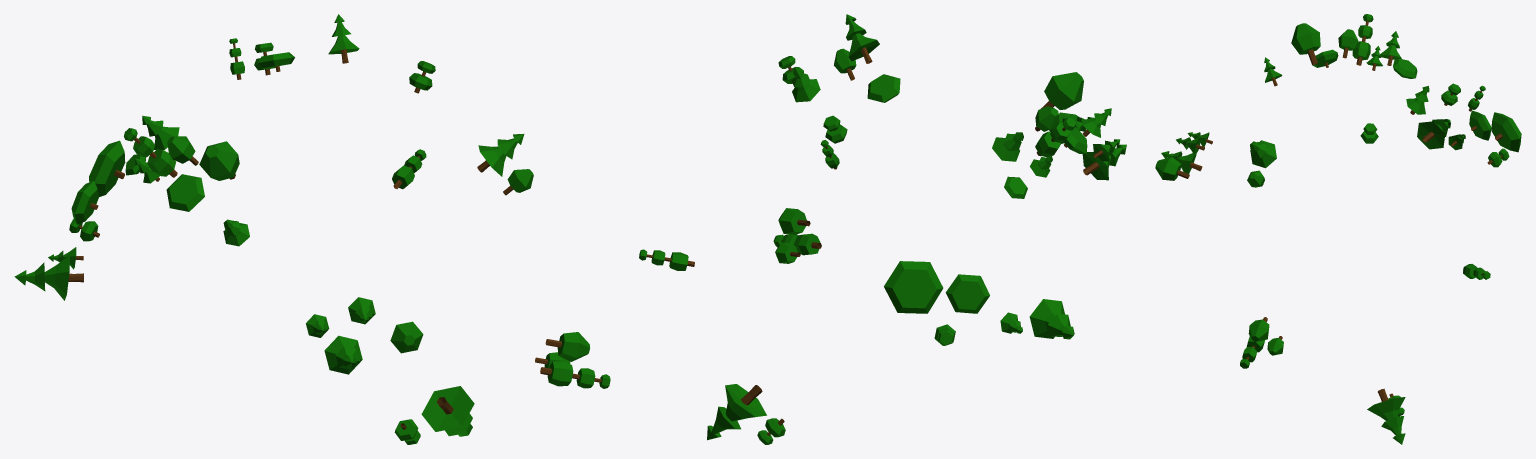
Rendered from planet_trees.glb.
3 renders of one model, left to right at view 1: azimuth 30°, elevation 25°; view 2: azimuth 150°, elevation 25°; view 3: azimuth 270°, elevation 25°, orthographic. The views are drawn at different scales.
Parts seen in each view (by area): view 1: og_tree2.006, og_tree4.001, og_tree2.010, og_tree3.005, og_tree.005, og_tree.004, og_tree4.005, og_tree2.005, og_tree2.002, og_tree3.003, og_tree4.003, og_tree3.004 (+4 smaller); view 2: og_tree4.001, og_tree2.006, og_tree2.010, og_tree4.003, og_tree3.005, og_tree2.002, og_tree.004, og_tree2.005, og_tree4.002, og_tree2.003, og_tree.005, og_tree2.007 (+4 smaller); view 3: og_tree2.006, og_tree4.001, og_tree3.005, og_tree2.010, og_tree.004, og_tree2.002, og_tree3.004, og_tree4.003, og_tree2.005, og_tree.005, og_tree2.003, og_tree3.003 (+3 smaller).
Part boxes in pixels (<box>): og_tree2.006: <box>421,386,474,436</box>; og_tree4.001: <box>89,140,125,196</box>; og_tree2.010: <box>14,255,83,300</box>; og_tree3.005: <box>199,141,239,180</box>; og_tree.005: <box>540,361,610,388</box>; og_tree.004: <box>124,128,177,177</box>; og_tree4.005: <box>166,174,204,211</box>; og_tree2.005: <box>324,335,362,374</box>; og_tree2.002: <box>477,134,524,176</box>; og_tree3.003: <box>545,332,589,361</box>; og_tree4.003: <box>71,181,98,224</box>; og_tree3.004: <box>390,321,423,353</box>; og_tree4.001: <box>884,261,943,313</box>; og_tree2.006: <box>707,384,766,440</box>; og_tree2.010: <box>1029,299,1074,339</box>; og_tree4.003: <box>945,274,989,313</box>; og_tree3.005: <box>1041,72,1083,109</box>; og_tree2.002: <box>845,14,879,63</box>; og_tree.004: <box>1035,117,1075,157</box>; og_tree2.005: <box>1082,144,1126,180</box>; og_tree4.002: <box>867,74,900,102</box>; og_tree2.003: <box>791,67,820,102</box>; og_tree.005: <box>773,233,821,255</box>; og_tree2.007: <box>992,132,1023,161</box>; og_tree2.006: <box>1367,388,1405,444</box>; og_tree4.001: <box>1491,112,1521,152</box>; og_tree3.005: <box>1291,23,1320,65</box>; og_tree2.010: <box>1417,119,1450,149</box>; og_tree.004: <box>1352,14,1373,65</box>; og_tree2.002: <box>1250,140,1276,168</box>; og_tree3.004: <box>1155,157,1189,180</box>; og_tree4.003: <box>1469,110,1491,140</box>; og_tree2.005: <box>1161,151,1202,173</box>; og_tree.005: <box>1240,336,1264,368</box>; og_tree2.003: <box>1406,86,1429,114</box>; og_tree3.003: <box>1248,317,1269,341</box>.
Size of the model in its own units: 58.08 by 52.99 by 55.07.
